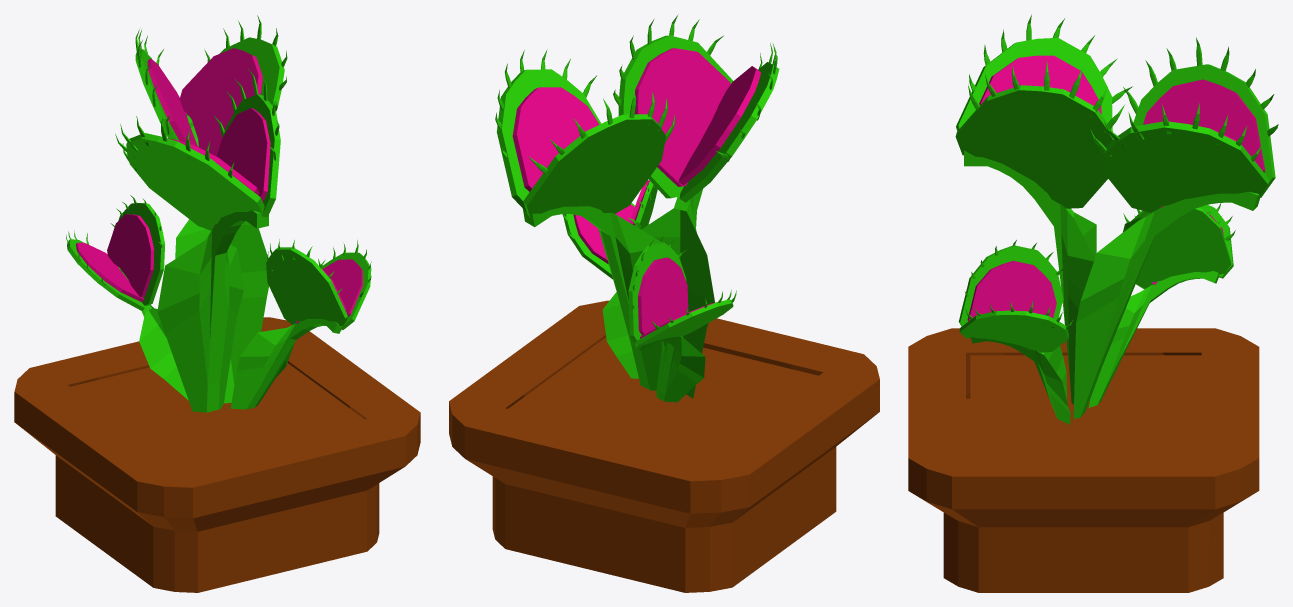
The model's file is FlyTrapMesh.fbx.
3 views of the same model, side by side, from view 1: azimuth 30°, elevation 25°; view 2: azimuth 150°, elevation 25°; view 3: azimuth 270°, elevation 25° (orthographic). The views are drawn at different scales.
Visible parts, largest first — view 1: TrapLeafPot, TrapLeafBStem, TrapLeafB2, TrapLeafA1, TrapLeafB1, TrapLeafAStem, TrapLeafC2, TrapLeafD2, TrapLeafCStem, TrapLeafA2, TrapLeafC1, TrapLeafD1 (+1 smaller); view 2: TrapLeafPot, TrapLeafB1, TrapLeafA2, TrapLeafA1, TrapLeafB2, TrapLeafAStem, TrapLeafD2, TrapLeafBStem, TrapLeafDStem, TrapLeafD1, TrapLeafC1, TrapLeafCStem (+1 smaller); view 3: TrapLeafPot, TrapLeafB1, TrapLeafA1, TrapLeafAStem, TrapLeafA2, TrapLeafB2, TrapLeafC2, TrapLeafBStem, TrapLeafD2, TrapLeafC1, TrapLeafDStem, TrapLeafCStem (+1 smaller).
Part boxes in pixels (<box>): TrapLeafPot: <box>14,317,420,592</box>; TrapLeafBStem: <box>157,210,268,412</box>; TrapLeafB2: <box>115,116,264,230</box>; TrapLeafA1: <box>179,15,287,156</box>; TrapLeafB1: <box>214,69,280,226</box>; TrapLeafAStem: <box>175,115,268,403</box>; TrapLeafC2: <box>266,239,347,325</box>; TrapLeafD2: <box>107,195,164,305</box>; TrapLeafCStem: <box>230,319,341,409</box>; TrapLeafA2: <box>135,29,197,146</box>; TrapLeafC1: <box>296,240,371,329</box>; TrapLeafD1: <box>66,230,146,310</box>; TrapLeafPot: <box>449,300,879,592</box>; TrapLeafB1: <box>613,14,733,198</box>; TrapLeafA2: <box>523,86,674,218</box>; TrapLeafA1: <box>495,49,601,212</box>; TrapLeafB2: <box>678,42,779,202</box>; TrapLeafAStem: <box>523,206,661,390</box>; TrapLeafD2: <box>628,235,688,342</box>; TrapLeafBStem: <box>641,189,714,398</box>; TrapLeafDStem: <box>634,336,705,402</box>; TrapLeafD1: <box>634,289,736,348</box>; TrapLeafC1: <box>562,203,648,279</box>; TrapLeafCStem: <box>602,292,638,378</box>; TrapLeafPot: <box>908,328,1259,592</box>; TrapLeafB1: <box>955,61,1124,208</box>; TrapLeafA1: <box>1090,103,1268,212</box>; TrapLeafAStem: <box>1073,191,1259,418</box>; TrapLeafA2: <box>1123,37,1278,207</box>; TrapLeafB2: <box>956,14,1132,131</box>; TrapLeafC2: <box>958,240,1065,326</box>; TrapLeafBStem: <box>964,150,1096,404</box>; TrapLeafD2: <box>1123,205,1231,288</box>; TrapLeafC1: <box>959,301,1073,352</box>; TrapLeafDStem: <box>1088,271,1218,407</box>; TrapLeafCStem: <box>971,337,1070,424</box>.
Bounding box in the file's own units: 4.7 × 7.2 × 4.96.
